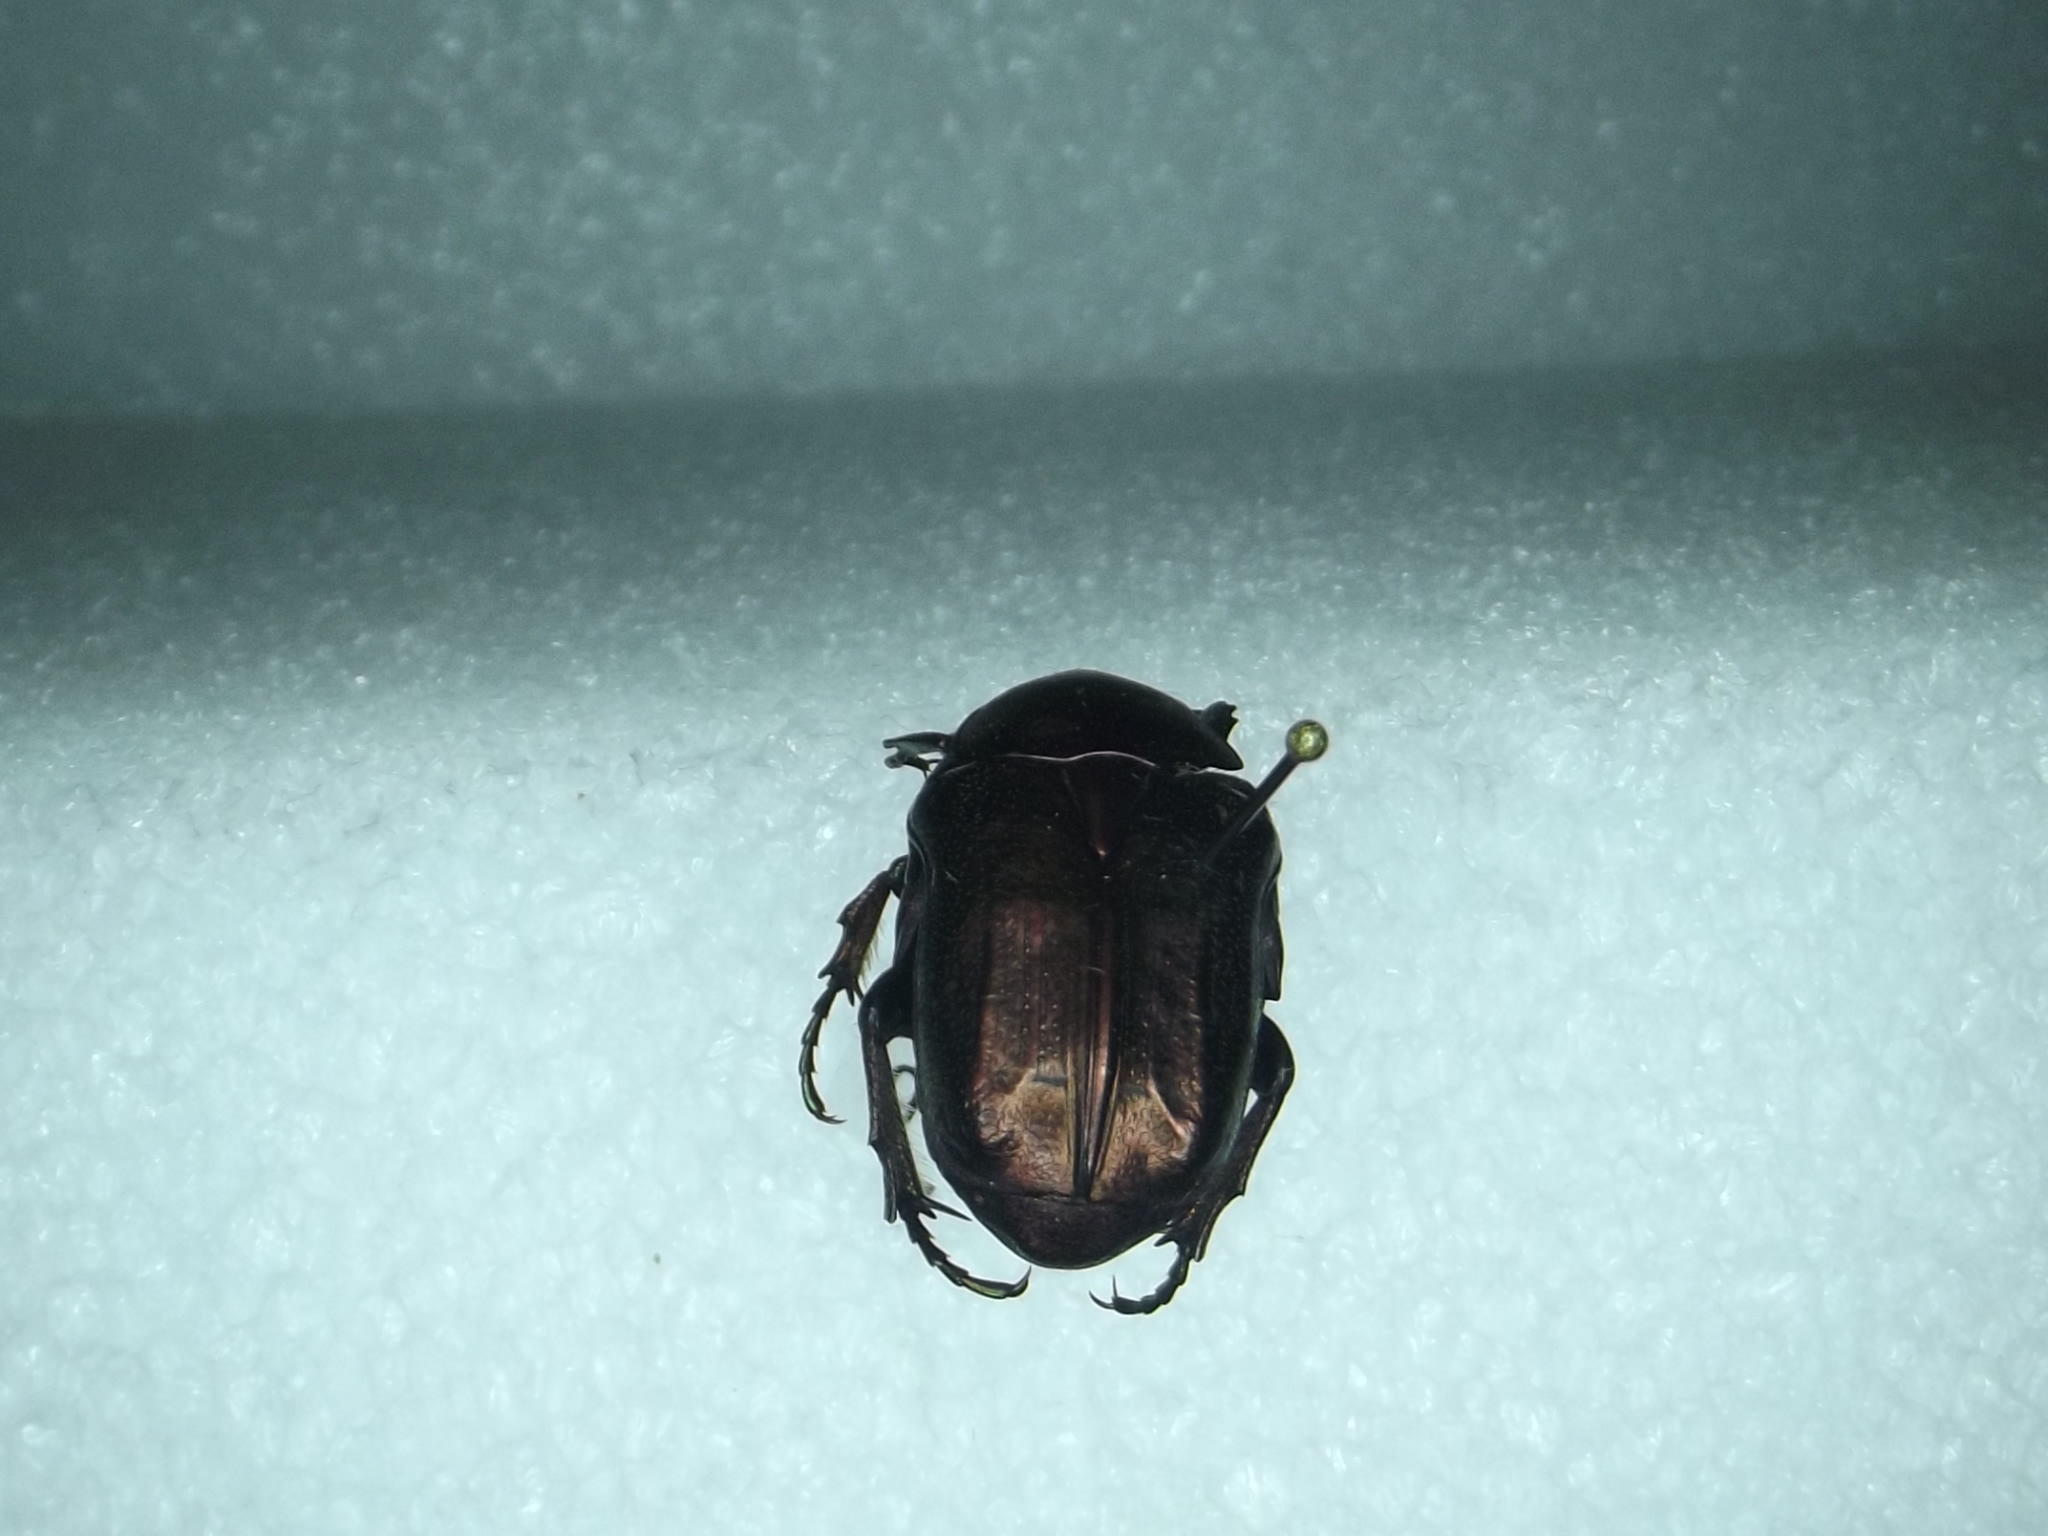Cetonia_aurata: (793, 613, 1306, 1334)
